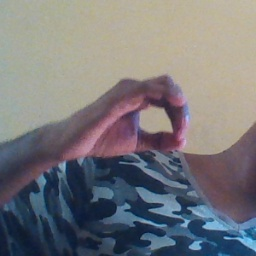O: (77, 67, 194, 161)
